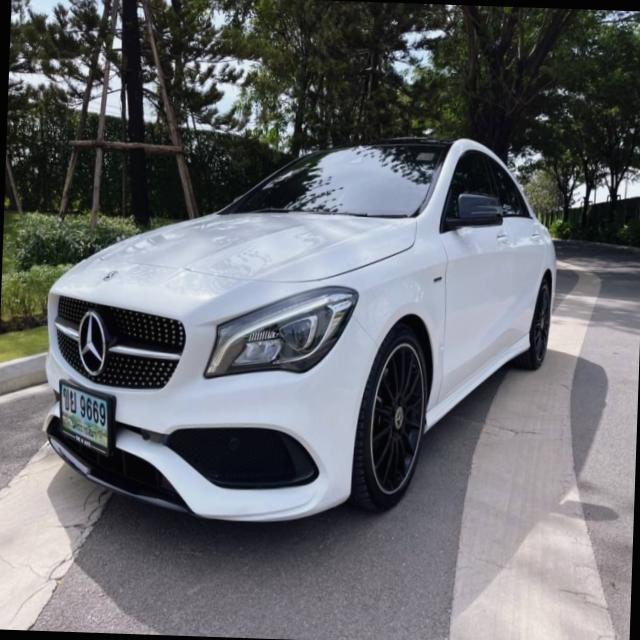license_plate: (57, 373, 114, 455)
